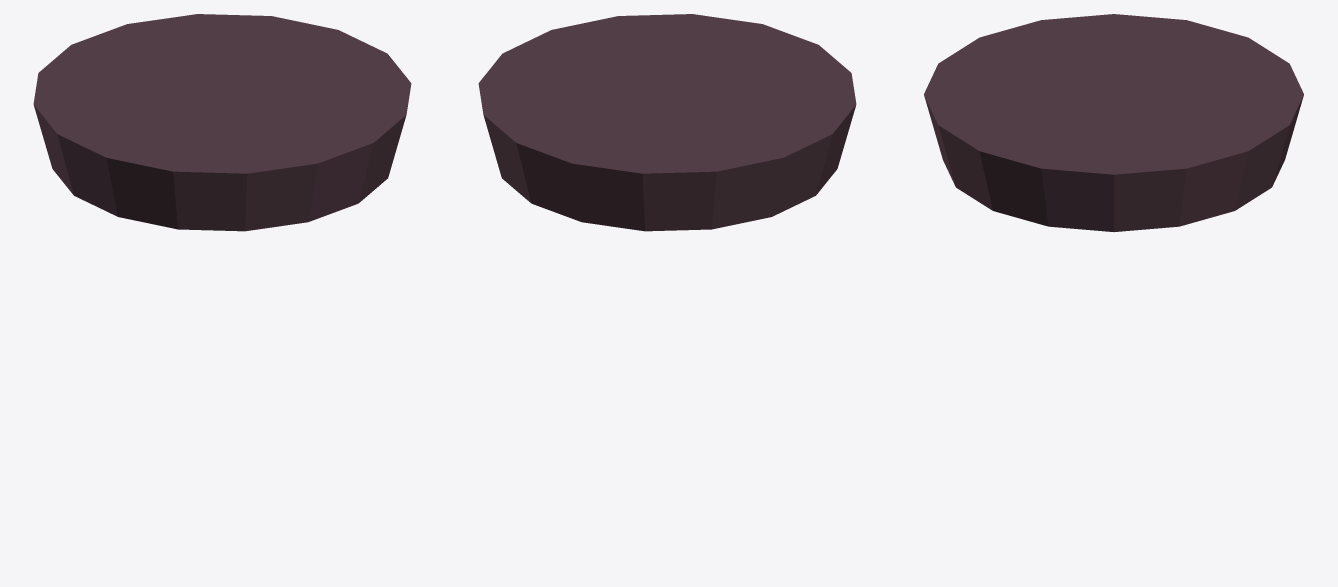
File: Jar.obj
3 renders of one model, left to right at view 1: azimuth 30°, elevation 25°; view 2: azimuth 150°, elevation 25°; view 3: azimuth 270°, elevation 25°, orthographic.
Visible parts, largest first — view 1: Jar_Cylinder.005; view 2: Jar_Cylinder.005; view 3: Jar_Cylinder.005.
Boxes of the visible parts, x1,y1,x2,y2 form: Jar_Cylinder.005: [33, 14, 411, 231]; Jar_Cylinder.005: [478, 14, 856, 231]; Jar_Cylinder.005: [924, 14, 1303, 231].
Bounding box in the file's own units: 1.83 × 1.98 × 1.83.
